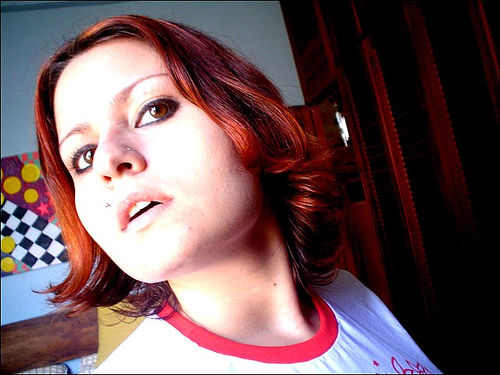without_mask: (34, 34, 281, 300)
